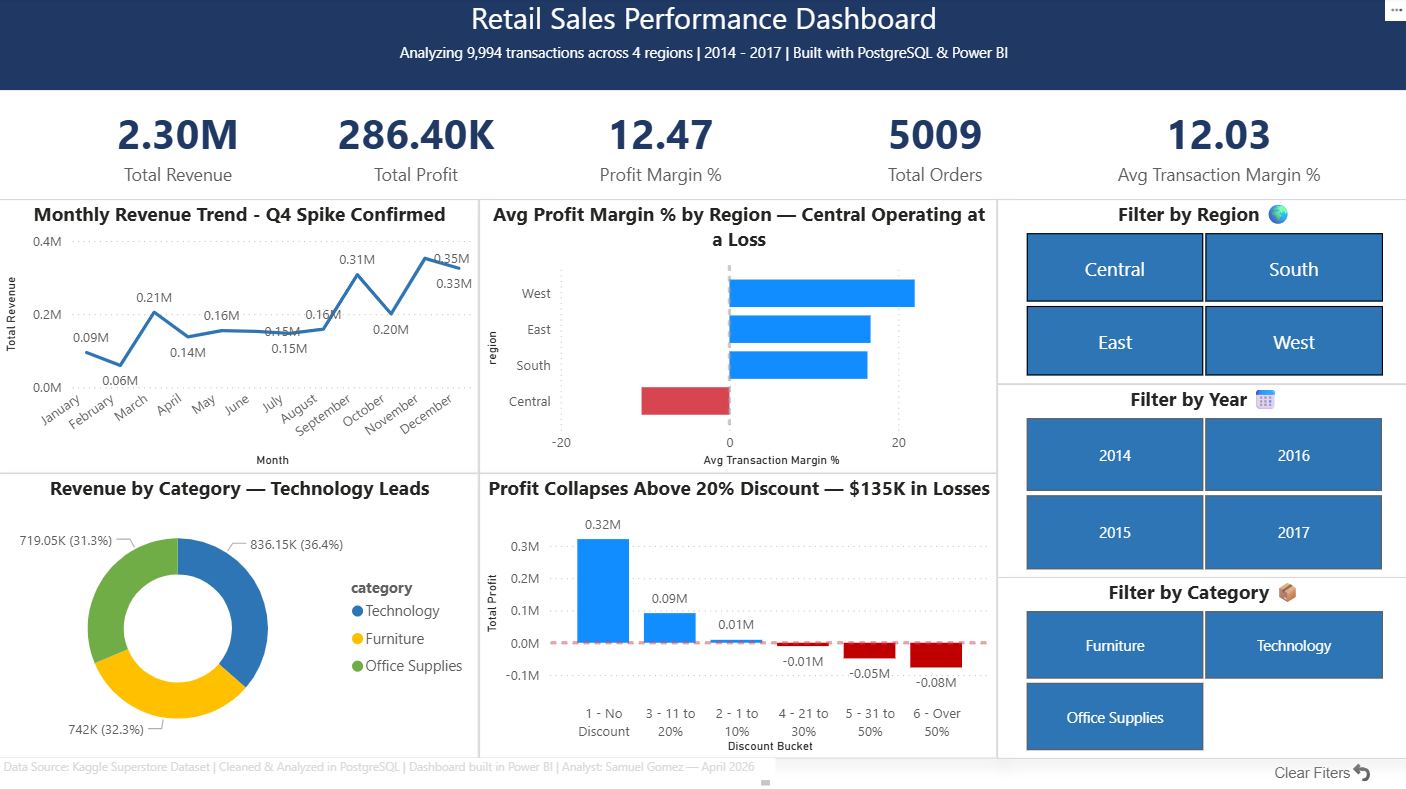

The dashboard page shown, as its layout file describes it:
{"tool":"powerbi","page":{"name":"Sales Performance Dashboard","canvas":[1280,720],"ordinal":0},"visuals":[{"type":"card","fields":{"Values":["cleaned_sales.Total Revenue"]},"box":[54.4,85.2,217.6,96.1],"z":0},{"type":"lineChart","title":"Monthly Revenue Trend - Q4 Spike Confirmed","fields":{"Category":["cleaned_sales.order_date.Variation.Date Hierarchy.Year","cleaned_sales.order_date.Variation.Date Hierarchy.Quarter","cleaned_sales.order_date.Variation.Date Hierarchy.Month","cleaned_sales.order_date.Variation.Date Hierarchy.Day"],"Y":["cleaned_sales.Total Revenue"]},"box":[0,181.4,436.2,248.7],"z":1000,"group":"g1"},{"type":"card","fields":{"Values":["cleaned_sales.Total Profit"]},"box":[272,85.2,214,96.1],"z":2000},{"type":"clusteredBarChart","title":"Avg Profit Margin % by Region — Central Operating at a Loss","fields":{"Category":["cleaned_sales.region"],"Y":["cleaned_sales.Avg Transaction Margin %"]},"box":[436.2,181.4,469.7,248.7],"z":3000,"group":"g1"},{"type":"donutChart","title":"Revenue by Category — Technology Leads","fields":{"Category":["cleaned_sales.category"],"Y":["cleaned_sales.Total Revenue"]},"box":[0,430.1,436.2,259],"z":4000,"group":"g1"},{"type":"clusteredColumnChart","title":"Profit Collapses Above 20% Discount — $135K in Losses","fields":{"Y":["cleaned_sales.Total Profit"],"Category":["cleaned_sales.Discount Bucket"]},"box":[436.2,429.9,469.6,259.3],"z":5000,"group":"g1"},{"type":"card","fields":{"Values":["cleaned_sales.Total Orders"]},"box":[724.5,85.2,250.3,96.1],"z":6000},{"type":"textbox","title":"Retail Sales Performance Dashboard","box":[0,0,1280.4,85.2],"z":7000},{"type":"card","fields":{"Values":["cleaned_sales.Avg Transaction Margin %"]},"box":[965.7,85.2,282.9,96.1],"z":8000},{"type":"card","fields":{"Values":["cleaned_sales.Profit Margin %"]},"box":[486,85.2,229.4,96.1],"z":9000},{"type":"slicer","title":"Filter by Region 🌍","fields":{"Values":["cleaned_sales.region"]},"box":[905.9,181.4,374.5,167.5],"z":10000,"group":"g1"},{"type":"slicer","title":"Filter by Year 📅","fields":{"Values":["cleaned_sales.order_year"]},"box":[905.7,349.4,374.3,175.9],"z":11000,"group":"g1"},{"type":"slicer","title":"Filter by Category 📦","fields":{"Values":["cleaned_sales.category"]},"box":[905.9,525,374.5,163.3],"z":12000,"group":"g1"},{"type":"actionButton","title":"Clear Filters","box":[1153.5,627.5,95.2,24.5],"z":13000},{"type":"group","id":"g1","title":"Group 1","box":[0,181.4,1280.4,506.9],"z":13001},{"type":"textbox","title":"Data Source: Kaggle Superstore Dataset  |  Cleaned & Analyzed in PostgreSQL  |  Dashboard built in Power BI | Analyst: Samuel Gomez — April 2026","box":[0,689.2,1280.4,30.8],"z":13002}]}

Visuals, with their boxes in screenshot pixels (x1, y1, x2, y2), scaled from the page's 1280x720 canvas onto the 1406x789 screenshot:
card - cleaned_sales.Total Revenue: 60, 93, 299, 199
"Monthly Revenue Trend - Q4 Spike Confirmed" lineChart: 0, 199, 479, 471
card - cleaned_sales.Total Profit: 299, 93, 534, 199
"Avg Profit Margin % by Region — Central Operating at a Loss" clusteredBarChart: 479, 199, 995, 471
"Revenue by Category — Technology Leads" donutChart: 0, 471, 479, 755
"Profit Collapses Above 20% Discount — $135K in Losses" clusteredColumnChart: 479, 471, 995, 755
card - cleaned_sales.Total Orders: 796, 93, 1071, 199
"Retail Sales Performance Dashboard" textbox: 0, 0, 1405, 93
card - cleaned_sales.Avg Transaction Margin %: 1061, 93, 1372, 199
card - cleaned_sales.Profit Margin %: 534, 93, 786, 199
"Filter by Region 🌍" slicer: 995, 199, 1405, 382
"Filter by Year 📅" slicer: 995, 383, 1405, 576
"Filter by Category 📦" slicer: 995, 575, 1405, 754
"Clear Filters" actionButton: 1267, 688, 1372, 714
"Group 1" group: 0, 199, 1405, 754
"Data Source: Kaggle Superstore Dataset  |  Cleaned & Analyzed in PostgreSQL  |  Dashboard built in Power BI | Analyst: Samuel Gomez — April 2026" textbox: 0, 755, 1405, 788
